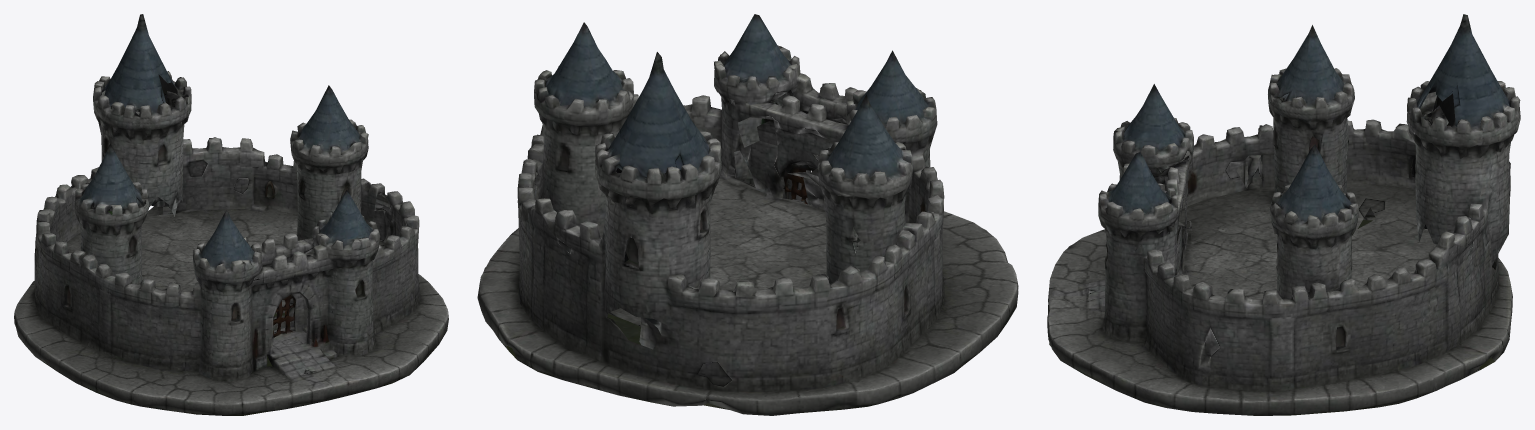
File: castle.glb
3 views of the same model, side by side, from view 1: azimuth 30°, elevation 25°; view 2: azimuth 150°, elevation 25°; view 3: azimuth 270°, elevation 25° (orthographic). The views are drawn at different scales.
Parts seen in each view (by area): view 1: geometry_0; view 2: geometry_0; view 3: geometry_0.
Boxes of the visible parts, left/top/right/bottom form: geometry_0: left=14, top=14, right=448, bottom=415; geometry_0: left=477, top=14, right=1018, bottom=415; geometry_0: left=1047, top=14, right=1520, bottom=415.
Size of the model in its own units: 0.9998 by 0.6815 by 0.9844.
1 material, 1 textured.
